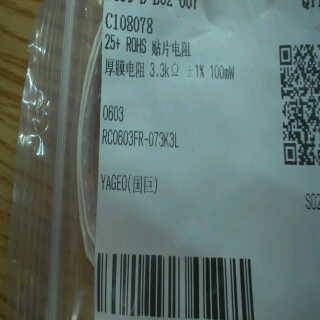3.3kO: (148, 59, 184, 83)
